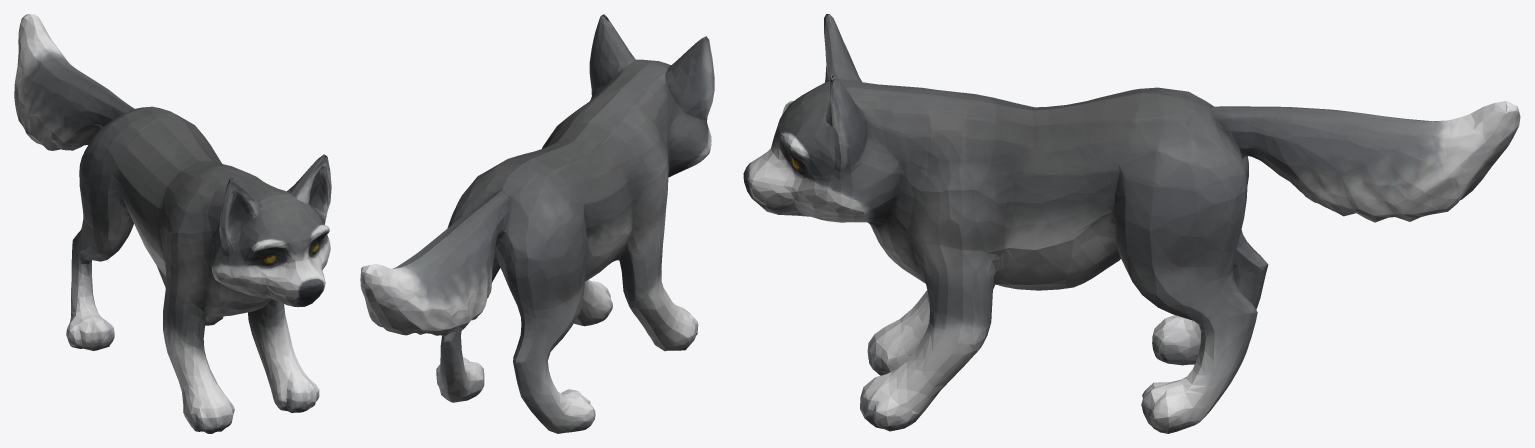
Rendered from wolf.glb.
3 views of the same model, side by side, from view 1: azimuth 30°, elevation 25°; view 2: azimuth 150°, elevation 25°; view 3: azimuth 270°, elevation 25° (orthographic). The views are drawn at different scales.
Parts seen in each view (by area): view 1: world; view 2: world; view 3: world.
Boxes of the visible parts, left/top/right/bottom form: world: left=14, top=14, right=331, bottom=433; world: left=360, top=14, right=714, bottom=433; world: left=743, top=14, right=1520, bottom=433.
Bounding box in the file's own units: 0.298 × 0.5103 × 1.
1 material, 1 textured.
